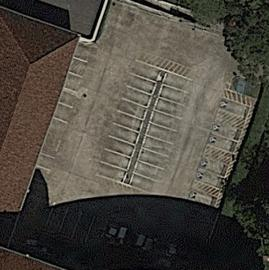parkingspot: (16, 194, 209, 270), (31, 38, 95, 187), (94, 58, 163, 185), (128, 70, 196, 197), (193, 155, 230, 191), (205, 119, 243, 154), (216, 95, 251, 119), (186, 187, 219, 211)
